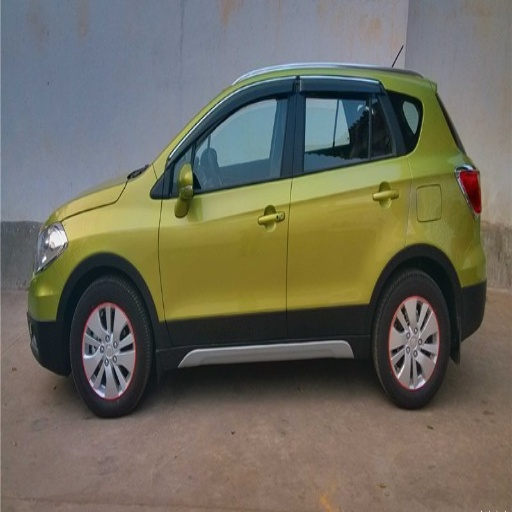back_left_door: (288, 75, 411, 339)
front_left_door: (159, 75, 298, 344)
